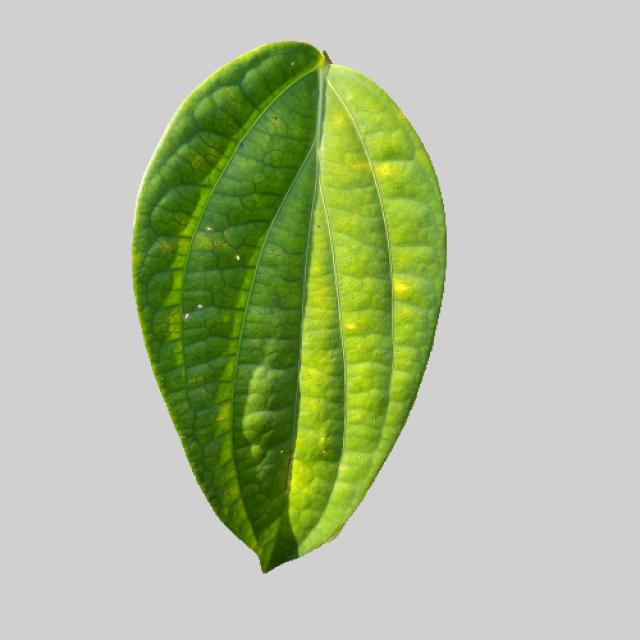healthy: (129, 36, 452, 582)
